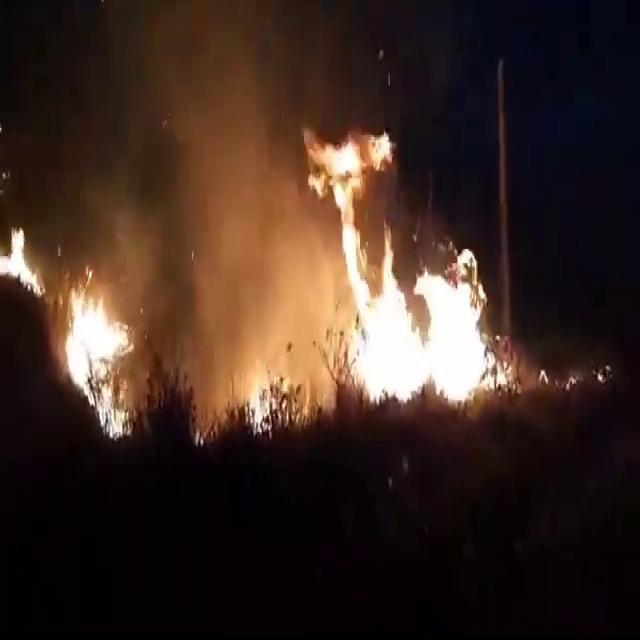Fire: (303, 126, 520, 395), (65, 290, 135, 432), (0, 226, 44, 297)
Smoke: (57, 0, 362, 418)
